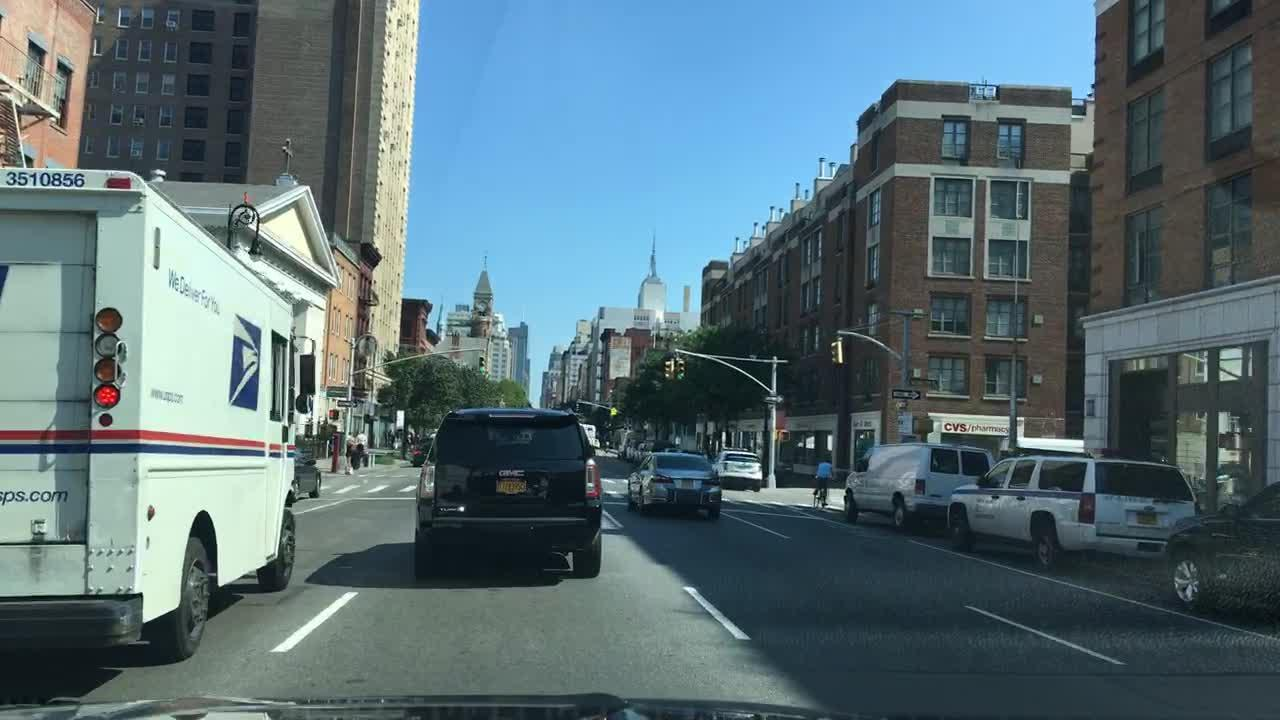GMC: (496, 466, 527, 482)
